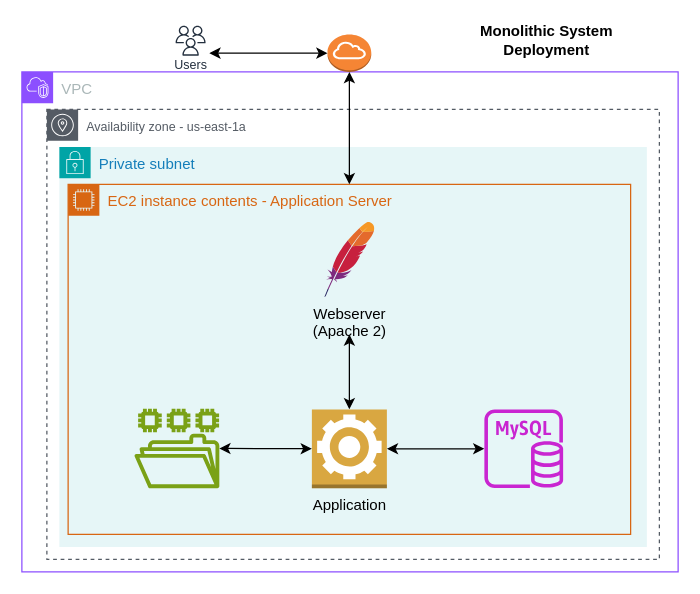
This 700x594 diagram has some shape labels left out. Here are the shapes that lost their labels. From the top down, the centre of each, then its label:
At (348,52): "Internet Gateway".
At (176,448): "Directory Files".
At (523,448): "MySQL Database".
